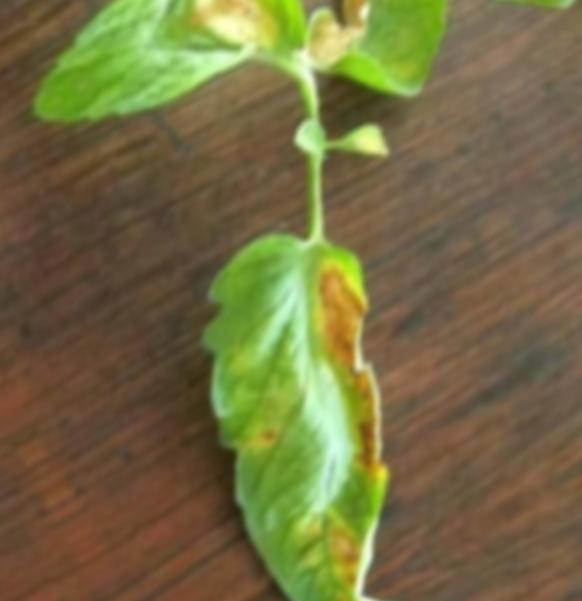Tomato Early blight leaf: (100, 199, 503, 601), (0, 0, 337, 214)
